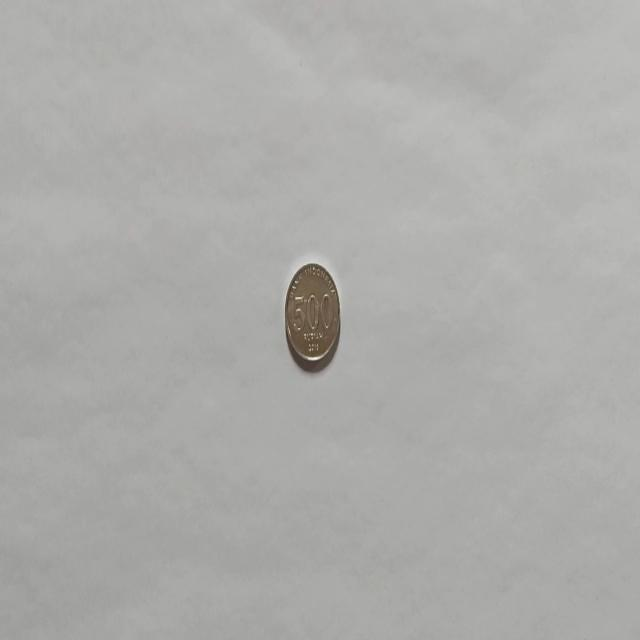lima ratus rupiah: (283, 260, 341, 370)
